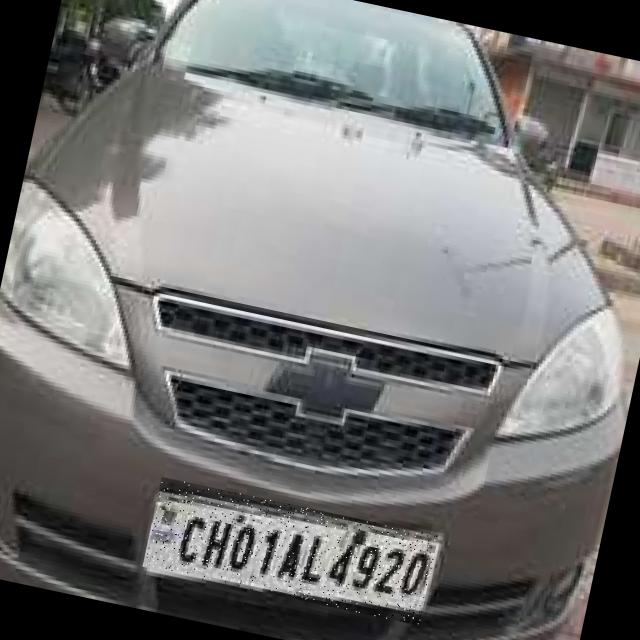Plate: (143, 478, 439, 627)
